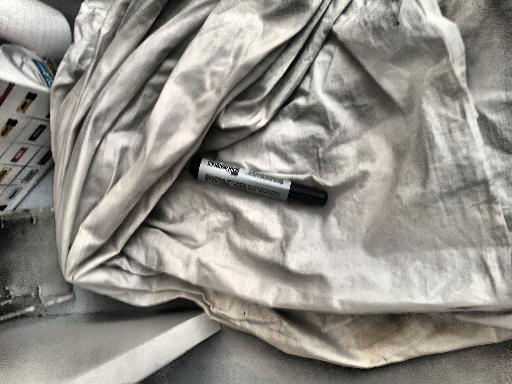marcador negro: (189, 156, 328, 207)
